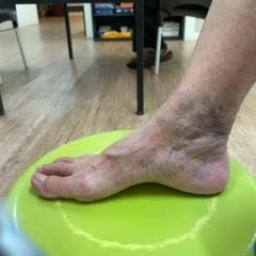Medial View -Right Foot-: (16, 80, 246, 221)
